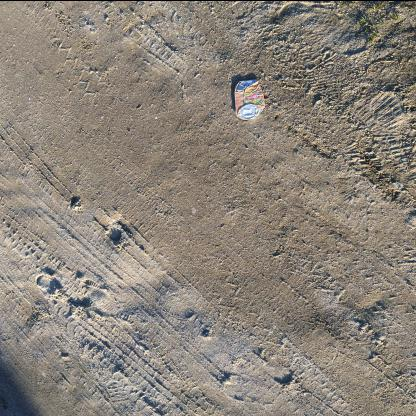metal: (234, 78, 266, 119)
